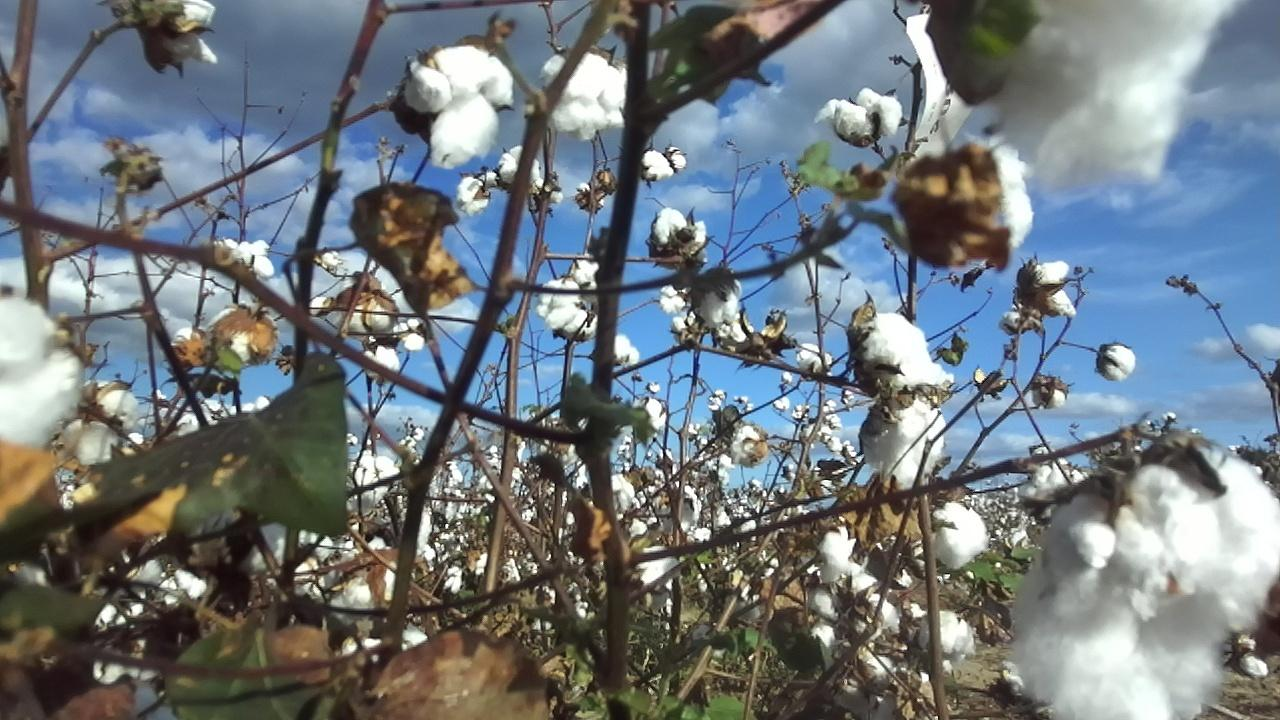cotton_ready: (1010, 457, 1280, 720), (996, 0, 1242, 187), (0, 297, 84, 450), (405, 48, 512, 165), (942, 141, 1032, 255), (537, 54, 625, 140), (864, 398, 946, 485), (63, 380, 139, 463), (860, 315, 941, 390), (815, 85, 904, 137), (151, 0, 219, 64), (930, 502, 989, 570), (913, 610, 977, 672), (205, 307, 265, 370), (324, 291, 400, 330), (1024, 262, 1074, 319), (819, 524, 862, 583)
